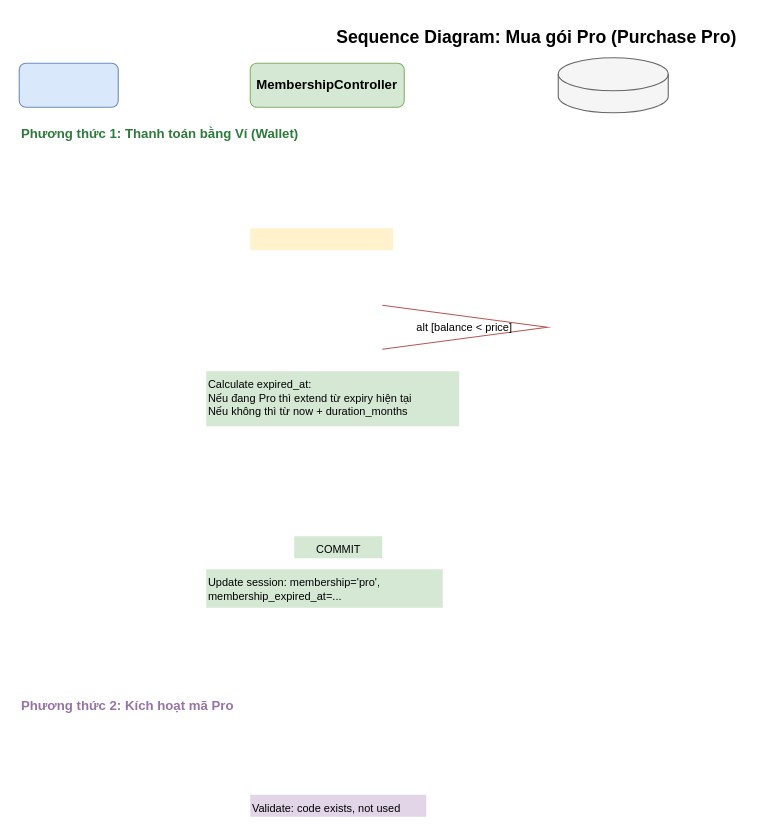
The diagram is 776 pixels wide and 835 high, and some of its shapes have lost their labels. The shapes that lost their labels are listed below. From the top down, each one's centre as x and y in pixels, then its label:
pixel 68 84: Học viên
pixel 612 85: Database
pixel 321 239: BEGIN TRANSACTION
